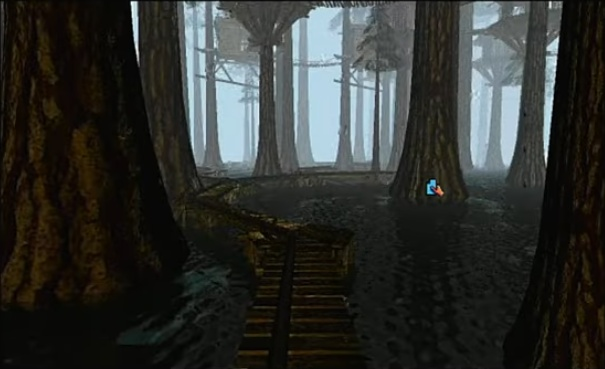Keep: (421, 175, 447, 198)
